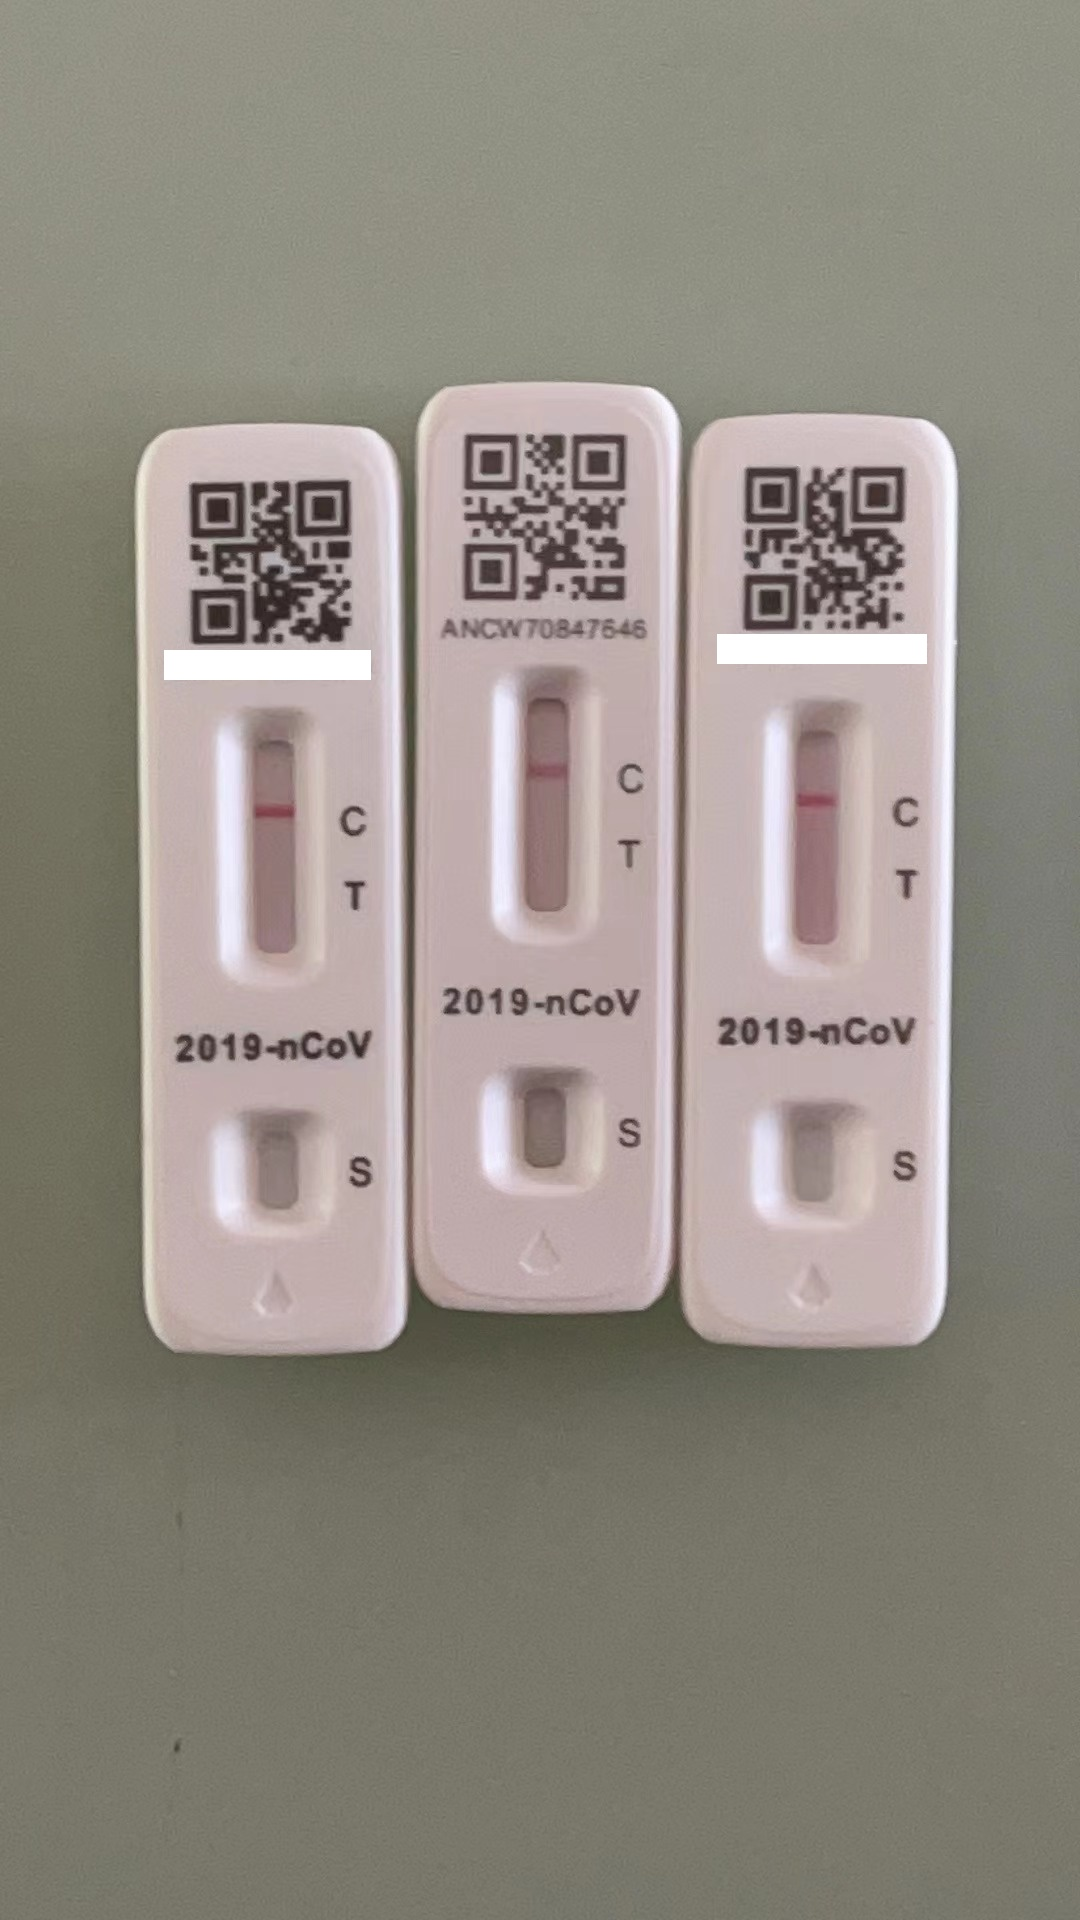negative: (765, 699, 873, 982), (222, 707, 324, 992), (495, 667, 595, 948)
